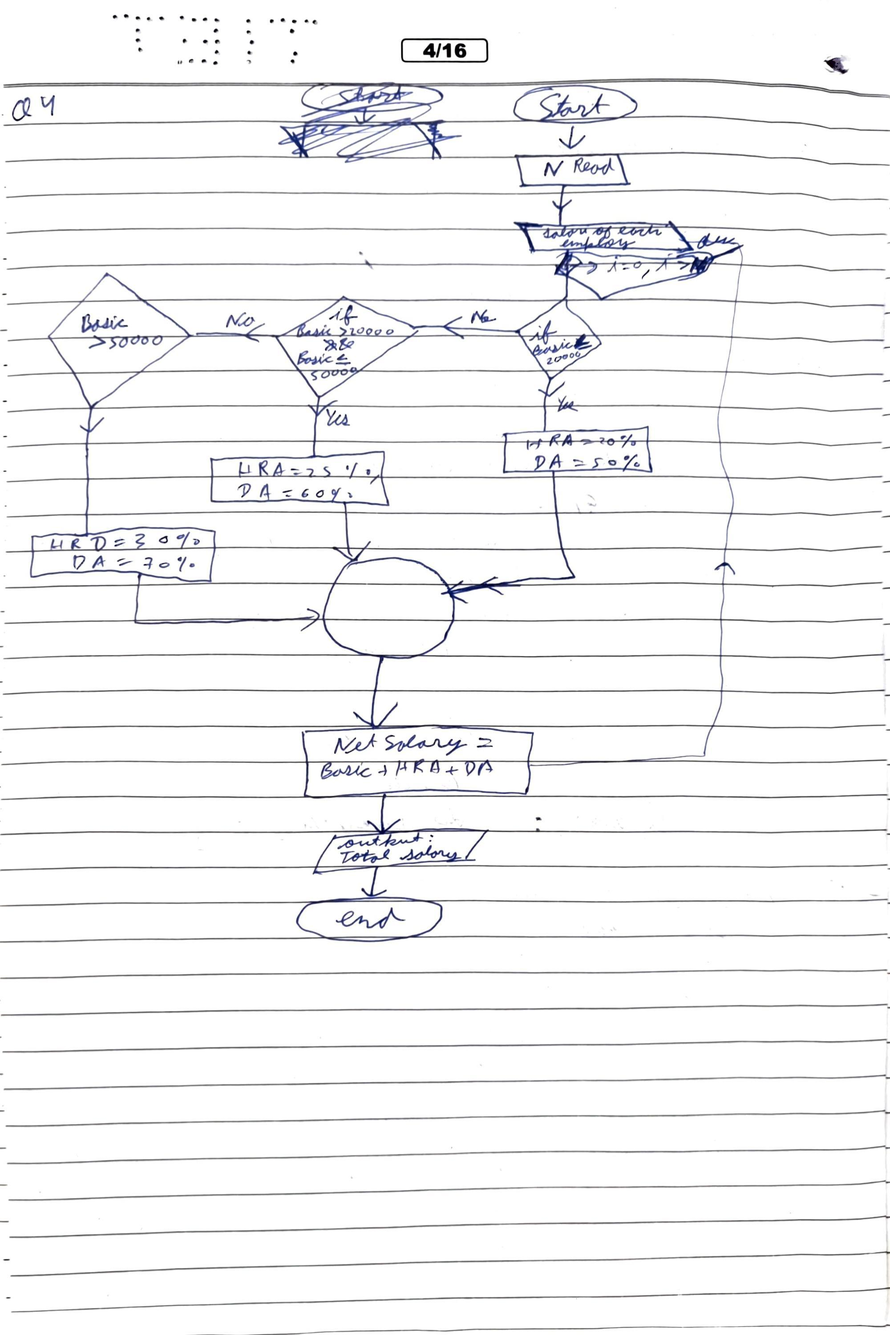cuttings: (275, 83, 465, 166), (690, 256, 711, 273), (575, 332, 592, 349)
